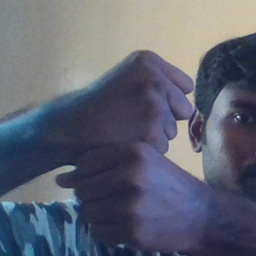G: (62, 43, 202, 256)
